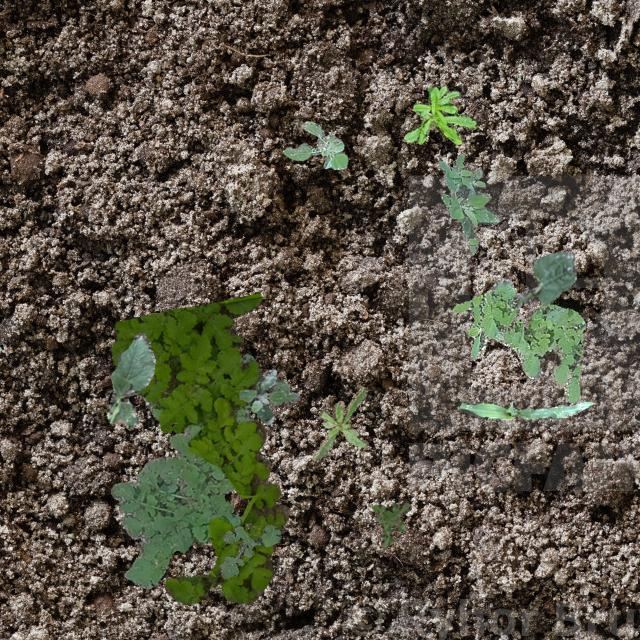crop: (491, 250, 575, 318), (106, 332, 154, 428), (458, 399, 594, 418)
weed: (110, 292, 288, 604), (110, 353, 288, 588), (452, 286, 584, 402), (438, 153, 500, 254), (402, 84, 476, 144), (312, 386, 368, 460), (238, 368, 298, 423), (218, 524, 280, 576), (282, 120, 346, 168), (370, 502, 410, 546)
